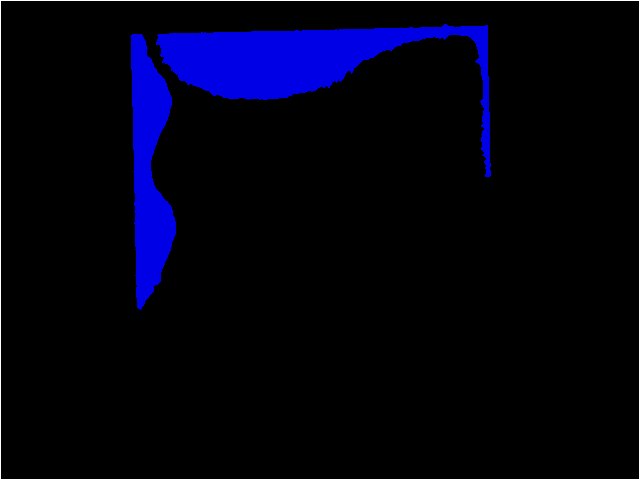defect: (156, 23, 493, 179), (129, 31, 177, 311)
